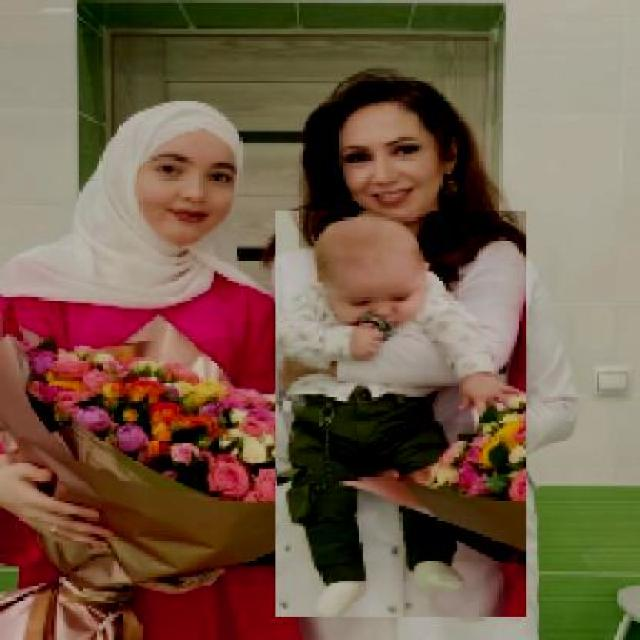child: (274, 211, 526, 618)
